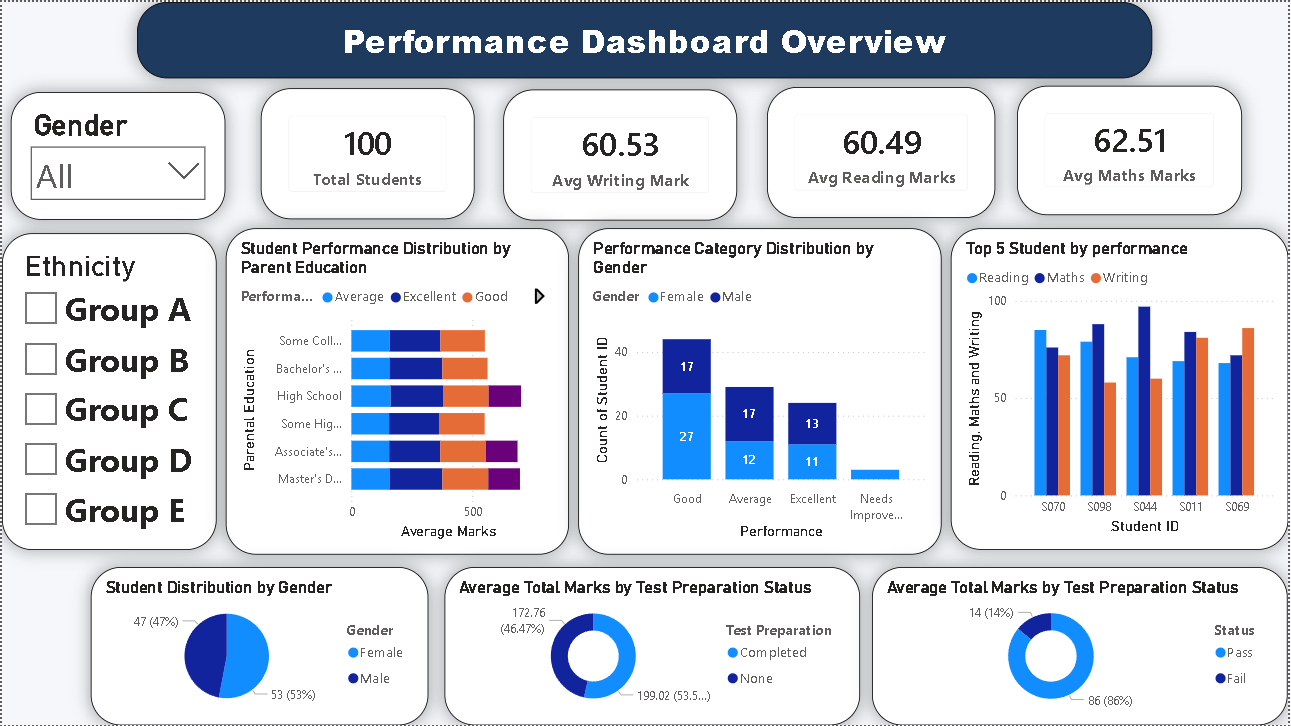

The page's visual inventory and layout, read from the dashboard file:
{"tool":"powerbi","page":{"name":"Dashboard Overview","canvas":[1280,720],"ordinal":0},"visuals":[{"type":"textbox","box":[134.3,0,1010.1,75.9],"z":0},{"type":"cardVisual","fields":{"Data":["Count(Student_Marks.Student ID)"]},"box":[257.5,86.2,212.5,130],"z":1000},{"type":"cardVisual","fields":{"Data":["Avg(Student_Marks.Writing Score)"]},"box":[498.8,87.5,232.5,130],"z":2000},{"type":"cardVisual","fields":{"Data":["Avg(Student_Marks.Reading Score)"]},"box":[761.2,85,227.5,130],"z":3000},{"type":"cardVisual","fields":{"Data":["Avg(Student_Marks.Math Score)"]},"box":[1010,83.8,223.8,128.8],"z":4000},{"type":"slicer","fields":{"Values":["Student_Marks.Gender"]},"box":[8.8,90,213.8,127.5],"z":5000},{"type":"slicer","fields":{"Values":["Student_Marks.Ethnicity"]},"box":[0,230,213.8,315],"z":6000},{"type":"barChart","title":"Student Performance Distribution by Parent Education","fields":{"Category":["Student_Marks.Parental Education"],"Y":["Avg(Student_Marks.Total Mark)"],"Series":["Student_Marks.Performance"]},"box":[222.5,225,341.2,325],"z":7000},{"type":"columnChart","title":"Performance Category Distribution by Gender","fields":{"Category":["Student_Marks.Performance"],"Y":["CountNonNull(Student_Marks.Student ID)"],"Series":["Student_Marks.Gender"]},"box":[573.8,225,361.2,325],"z":8000},{"type":"pieChart","title":"Student Distribution by Gender","fields":{"Category":["Student_Marks.Gender"],"Y":["CountNonNull(Student_Marks.Student ID)"]},"box":[88.8,562.5,336.2,157.5],"z":9000},{"type":"donutChart","title":"Average Total Marks by Test Preparation Status","fields":{"Category":["Student_Marks.Test Preparation"],"Y":["Avg(Student_Marks.Total Mark)"]},"box":[440,562.5,413.8,157.5],"z":10000},{"type":"clusteredColumnChart","title":"Top 5 Student by performance","fields":{"Y":["Avg(Student_Marks.Reading Score)","Avg(Student_Marks.Math Score)","Avg(Student_Marks.Writing Score)"],"Category":["Student_Marks.Student ID"]},"box":[943.8,225,336.2,320],"z":11000},{"type":"donutChart","title":"Average Total Marks by Test Preparation Status","fields":{"Category":["Student_Marks.Status"],"Y":["CountNonNull(Student_Marks.Student ID)"]},"box":[866.2,562.5,413.8,157.5],"z":12000}]}

Visuals, with their boxes in screenshot pixels (x1, y1, x2, y2), scaled from the page's 1280x720 canvas onto the 1291x726 screenshot:
textbox: bbox=[135, 0, 1154, 77]
cardVisual - Count(Student_Marks.Student ID): bbox=[260, 87, 474, 218]
cardVisual - Avg(Student_Marks.Writing Score): bbox=[503, 88, 738, 219]
cardVisual - Avg(Student_Marks.Reading Score): bbox=[768, 86, 997, 217]
cardVisual - Avg(Student_Marks.Math Score): bbox=[1019, 84, 1244, 214]
slicer - Student_Marks.Gender: bbox=[9, 91, 225, 219]
slicer - Student_Marks.Ethnicity: bbox=[0, 232, 216, 550]
"Student Performance Distribution by Parent Education" barChart: bbox=[224, 227, 569, 555]
"Performance Category Distribution by Gender" columnChart: bbox=[579, 227, 943, 555]
"Student Distribution by Gender" pieChart: bbox=[90, 567, 429, 725]
"Average Total Marks by Test Preparation Status" donutChart: bbox=[444, 567, 861, 725]
"Top 5 Student by performance" clusteredColumnChart: bbox=[952, 227, 1290, 550]
"Average Total Marks by Test Preparation Status" donutChart: bbox=[874, 567, 1290, 725]
